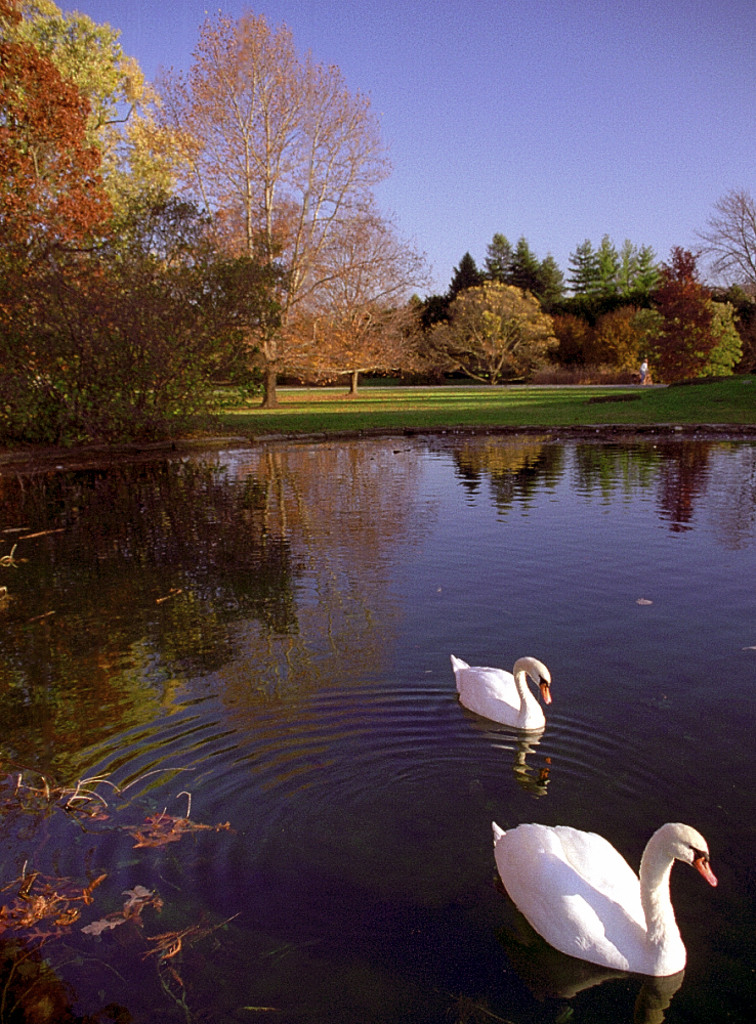Tree: (0, 1, 754, 451)
